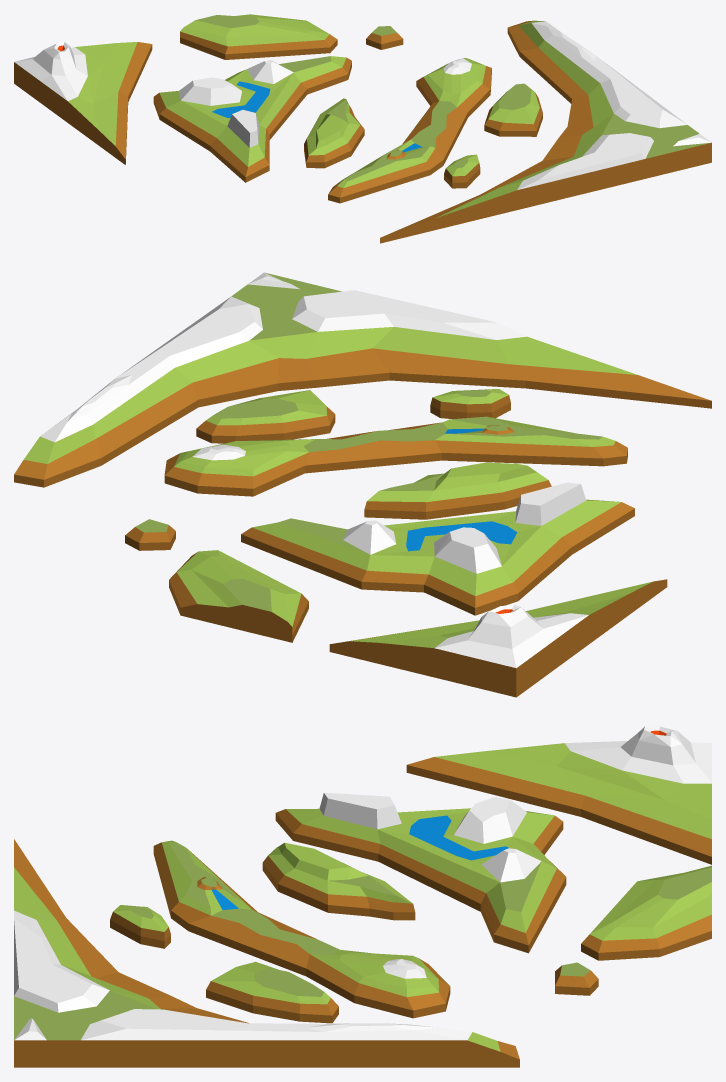
Rendered from terrain.fbx.
3 views of the same model, one above another, from view 1: azimuth 30°, elevation 25°; view 2: azimuth 150°, elevation 25°; view 3: azimuth 270°, elevation 25° (orthographic). The views are drawn at different scales.
Parts seen in each view (by area): view 1: Cube.006, Cube.001, Cube.002, Cube.005, Cube.004, Cube.008, Cube.007, Cube.003; view 2: Cube.006, Cube.002, Cube.001, Cube.005, Cube.004, Cube.008, Cube.007, Cube.003; view 3: Cube.006, Cube.001, Cube.002, Cube.005, Cube.004, Cube.008, Cube.007, Cube.003.
Boxes of the visible parts, x1,y1,x2,y2 form: Cube.006: (380, 20, 711, 243); Cube.001: (14, 14, 337, 164); Cube.002: (153, 56, 351, 182); Cube.005: (328, 58, 491, 203); Cube.004: (304, 98, 364, 168); Cube.008: (484, 83, 542, 136); Cube.007: (444, 154, 480, 188); Cube.003: (366, 26, 403, 49); Cube.006: (14, 272, 711, 487); Cube.002: (241, 482, 634, 615); Cube.001: (169, 550, 667, 697); Cube.005: (164, 416, 627, 496); Cube.004: (364, 462, 551, 519); Cube.008: (196, 390, 335, 443); Cube.007: (430, 389, 510, 419); Cube.003: (125, 519, 175, 550); Cube.006: (14, 839, 519, 1067); Cube.001: (406, 726, 711, 960); Cube.002: (275, 792, 566, 953); Cube.005: (153, 840, 450, 1018); Cube.004: (262, 842, 415, 920); Cube.008: (206, 961, 338, 1023); Cube.007: (110, 905, 170, 948); Cube.003: (555, 962, 598, 995).
Bounding box in the file's own units: 8000 × 762 × 8000.
